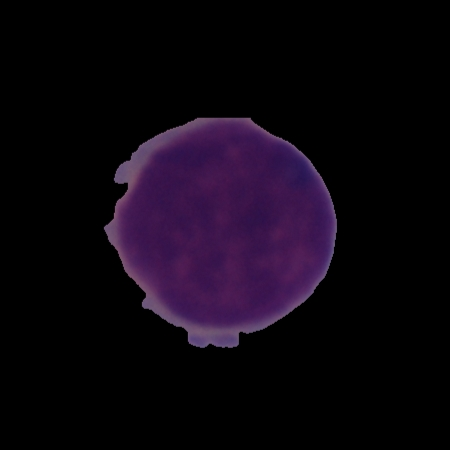ALL: (101, 114, 340, 352)
